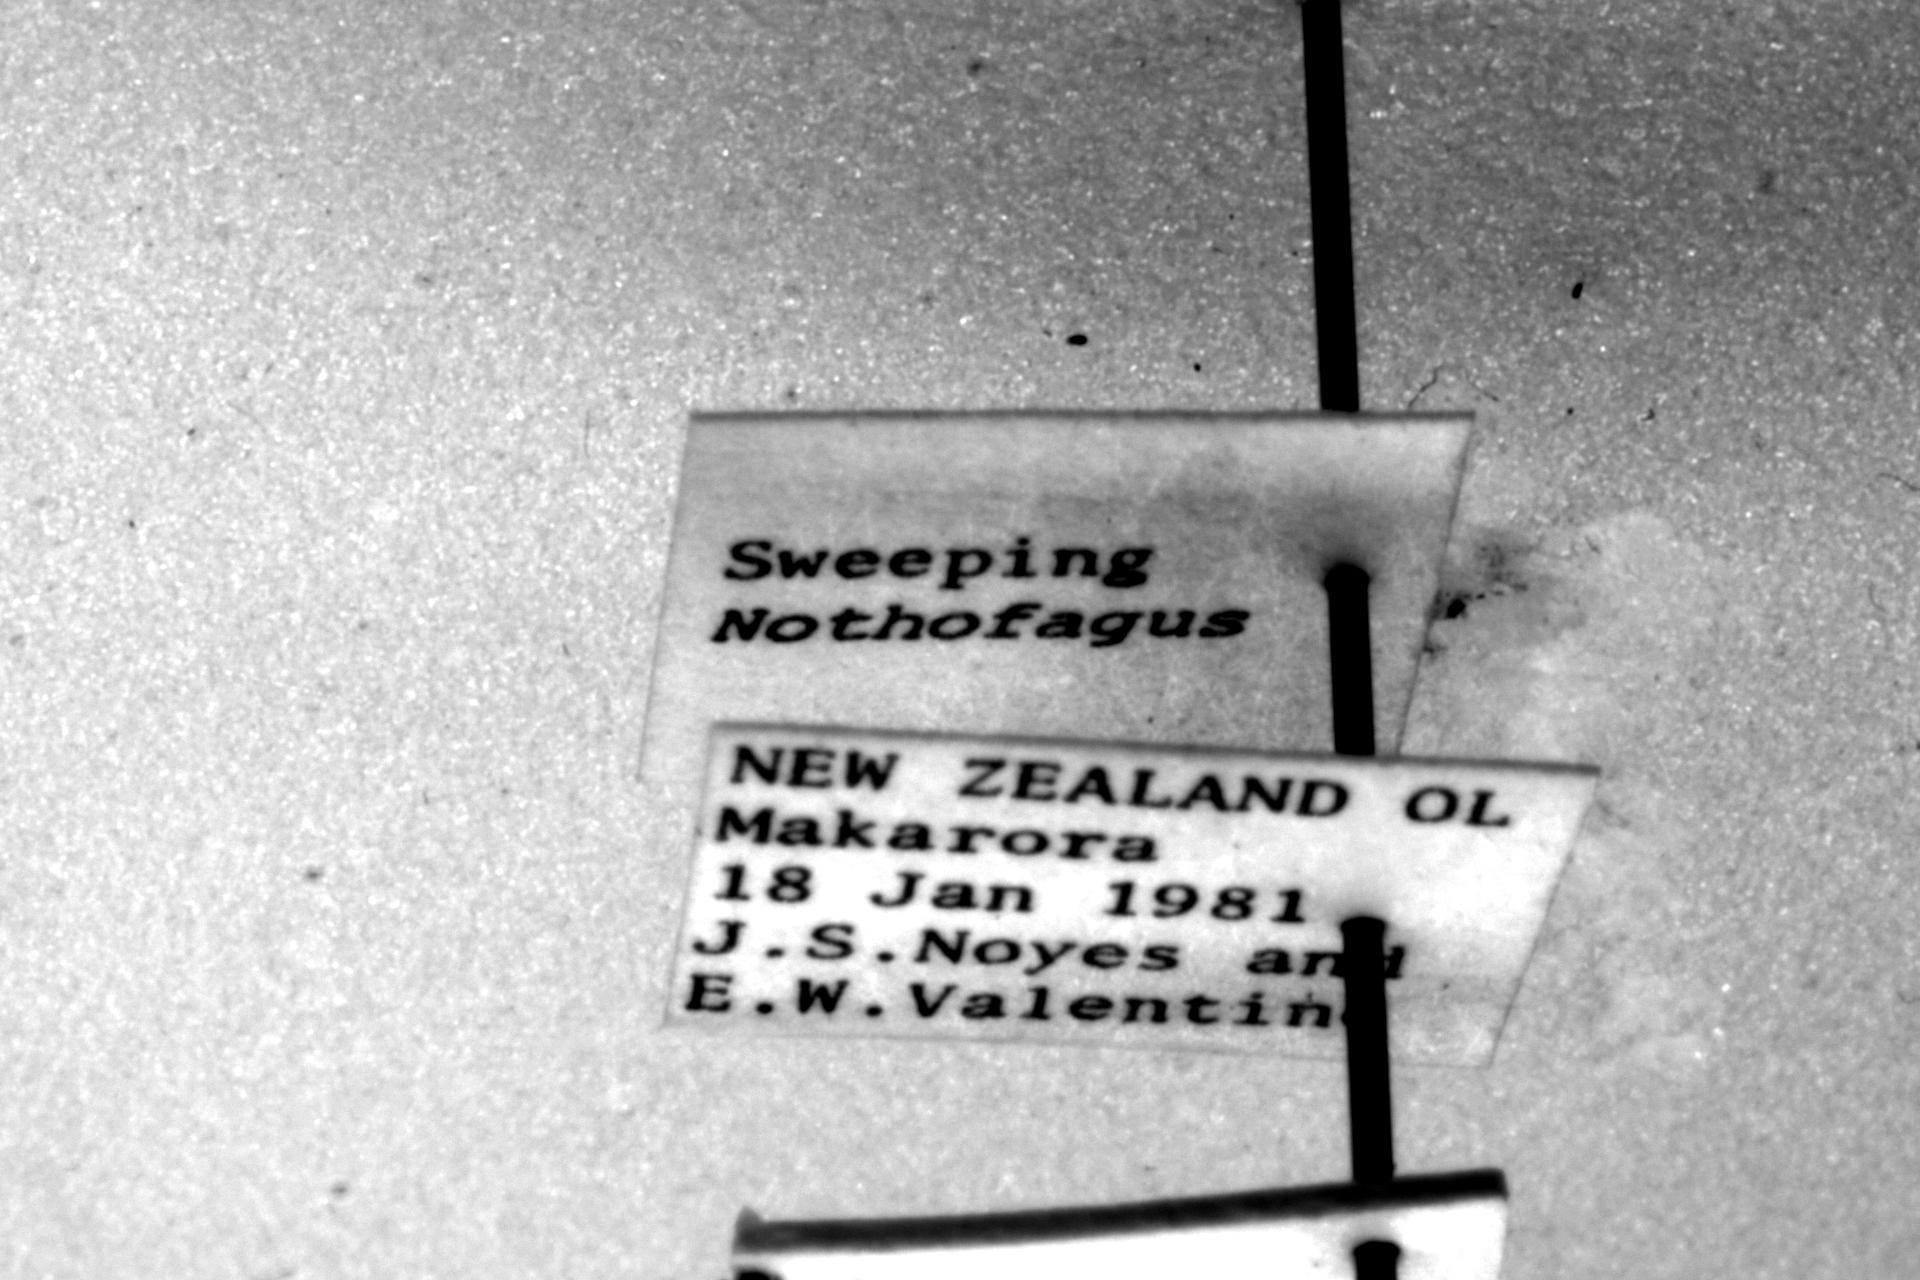typed_label: (668, 724, 1598, 1065), (641, 412, 1470, 780)
